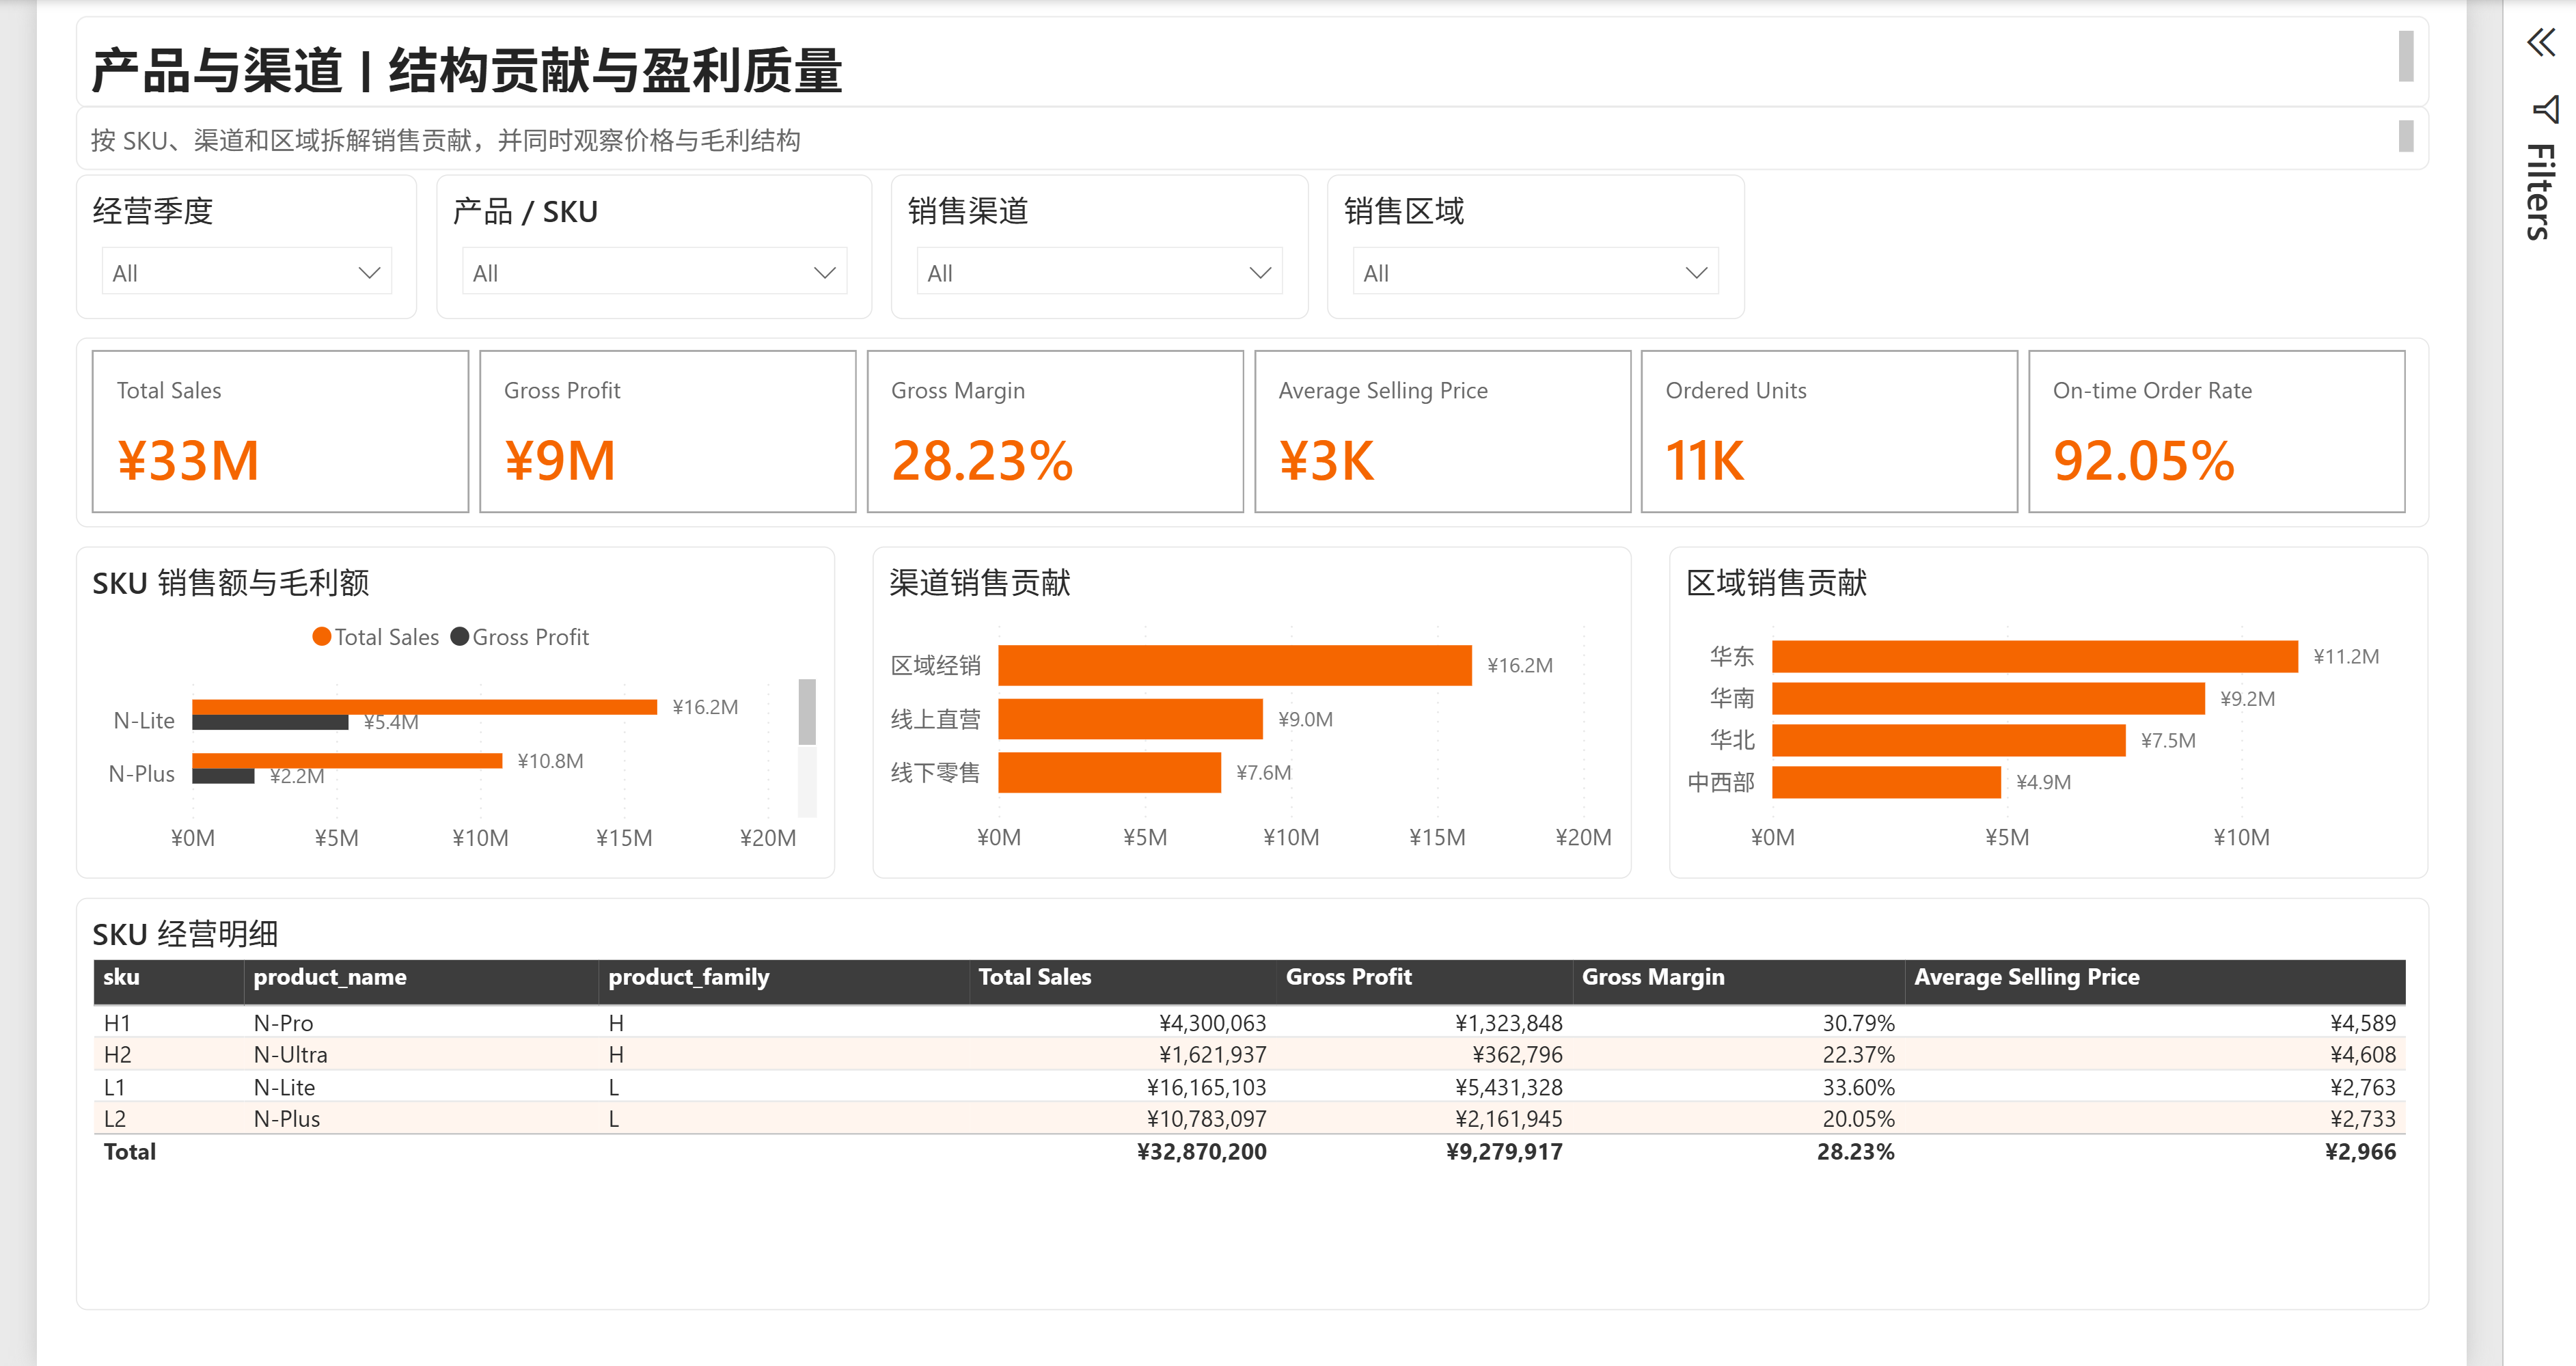

This screenshot's page, from the dashboard's own definition file:
{"tool":"powerbi","page":{"name":"2 产品与渠道","canvas":[1280,720],"ordinal":1},"visuals":[{"type":"textbox","box":[20,8,1240,48],"z":1000},{"type":"textbox","box":[20,56,1240,34],"z":2000},{"type":"slicer","title":"经营季度","fields":{"Values":["dim_date.business_quarter"]},"box":[20,92,180,76],"z":3000},{"type":"slicer","title":"产品 / SKU","fields":{"Values":["dim_product.product_name"]},"box":[210,92,230,76],"z":4000},{"type":"slicer","title":"销售渠道","fields":{"Values":["dim_channel.channel_name"]},"box":[450,92,220,76],"z":5000},{"type":"slicer","title":"销售区域","fields":{"Values":["dim_region.region_name"]},"box":[680,92,220,76],"z":6000},{"type":"cardVisual","fields":{"Data":["_Measures.Total Sales","_Measures.Gross Profit","_Measures.Gross Margin","_Measures.Average Selling Price","_Measures.Ordered Units","_Measures.On-time Order Rate"]},"box":[20,178,1240,100],"z":7000},{"type":"clusteredBarChart","title":"SKU 销售额与毛利额","fields":{"Category":["dim_product.product_name"],"Y":["_Measures.Total Sales","_Measures.Gross Profit"]},"box":[20,288,400,175],"z":8000},{"type":"clusteredBarChart","title":"渠道销售贡献","fields":{"Category":["dim_channel.channel_name"],"Y":["_Measures.Total Sales"]},"box":[440,288,400,175],"z":9000},{"type":"clusteredBarChart","title":"区域销售贡献","fields":{"Category":["dim_region.region_name"],"Y":["_Measures.Total Sales"]},"box":[860,288,400,175],"z":10000},{"type":"tableEx","title":"SKU 经营明细","fields":{"Values":["dim_product.sku","dim_product.product_name","dim_product.product_family","_Measures.Total Sales","_Measures.Gross Profit","_Measures.Gross Margin","_Measures.Average Selling Price"]},"box":[20,473,1240,217],"z":11000}]}

Visuals, with their boxes on the page's 1280x720 design canvas (x1, y1, x2, y2). These are canvas units, not pixel positions in the 2576x1366 screenshot, which may show the page scaled, cropped or inside an application window:
textbox: bbox=(20, 8, 1260, 56)
textbox: bbox=(20, 56, 1260, 90)
"经营季度" slicer: bbox=(20, 92, 200, 168)
"产品 / SKU" slicer: bbox=(210, 92, 440, 168)
"销售渠道" slicer: bbox=(450, 92, 670, 168)
"销售区域" slicer: bbox=(680, 92, 900, 168)
cardVisual - _Measures.Total Sales x _Measures.Gross Profit: bbox=(20, 178, 1260, 278)
"SKU 销售额与毛利额" clusteredBarChart: bbox=(20, 288, 420, 463)
"渠道销售贡献" clusteredBarChart: bbox=(440, 288, 840, 463)
"区域销售贡献" clusteredBarChart: bbox=(860, 288, 1260, 463)
"SKU 经营明细" tableEx: bbox=(20, 473, 1260, 690)
